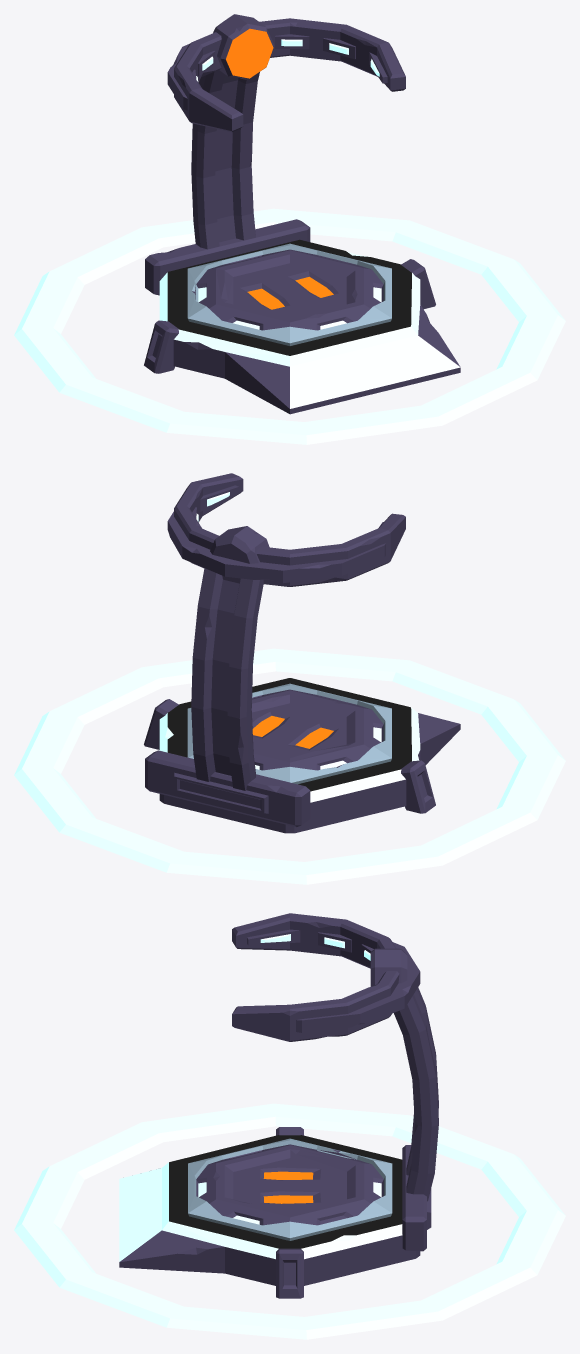
The model's file is Skin_Charger 1.fbx.
The picture shows the model from 3 angles, top to bottom: view 1: azimuth 30°, elevation 25°; view 2: azimuth 150°, elevation 25°; view 3: azimuth 270°, elevation 25°; orthographic projection.
Parts seen in each view (by area): view 1: Skin_Charger; view 2: Skin_Charger; view 3: Skin_Charger.
Boxes of the visible parts, left/top/right/bottom form: Skin_Charger: left=14, top=14, right=565, bottom=444; Skin_Charger: left=14, top=473, right=565, bottom=884; Skin_Charger: left=14, top=913, right=565, bottom=1339.
Size of the model in its own units: 916 by 513 by 916.
